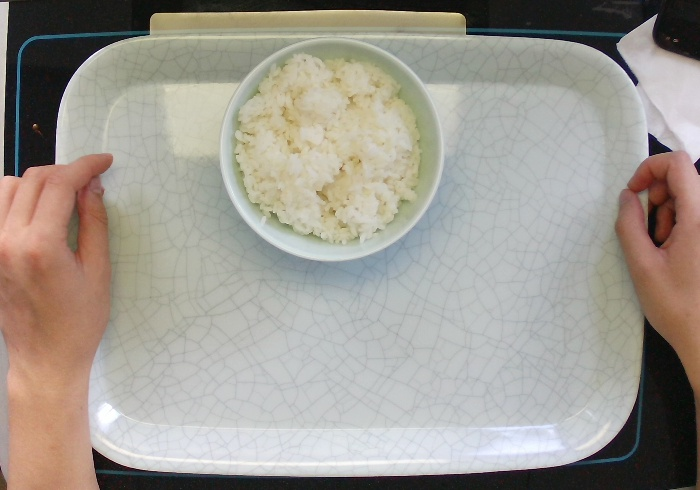JYsf-Fan_Wan: (214, 32, 449, 267)
